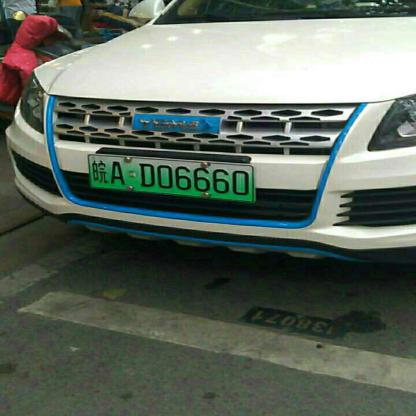lp: (87, 153, 254, 202)
